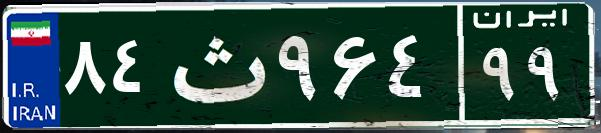4: (385, 28, 445, 110), (110, 28, 158, 105)
6: (330, 28, 385, 110)
8: (57, 26, 110, 107)
9: (273, 28, 330, 110), (475, 38, 525, 113), (525, 38, 570, 115)
ث: (158, 15, 273, 115)
